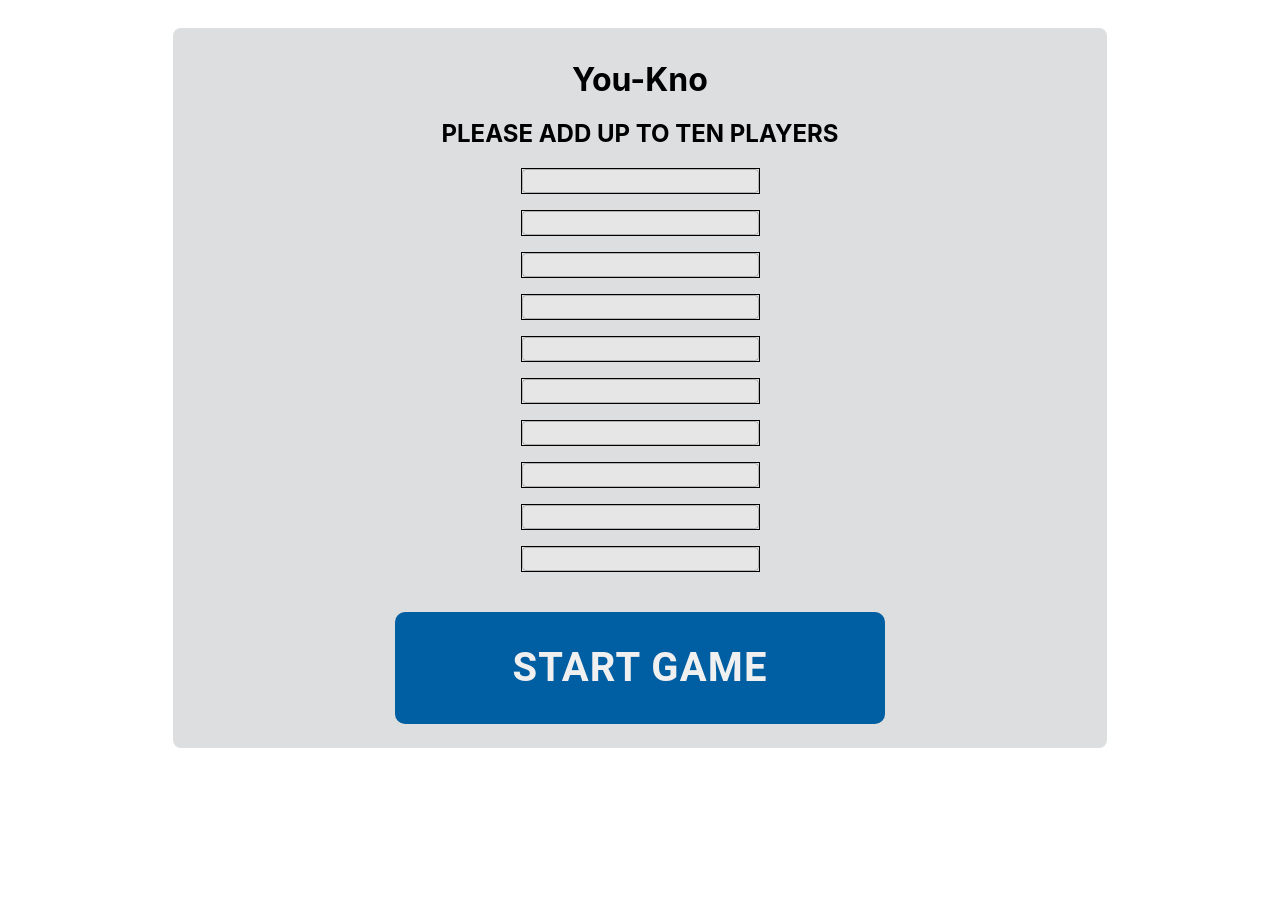
Test: closes error dialog box when ok button is clicked
This screenshot has width=1280, height=900.
Click the button "Start Game" at (640, 668), box [395,612,885,724]
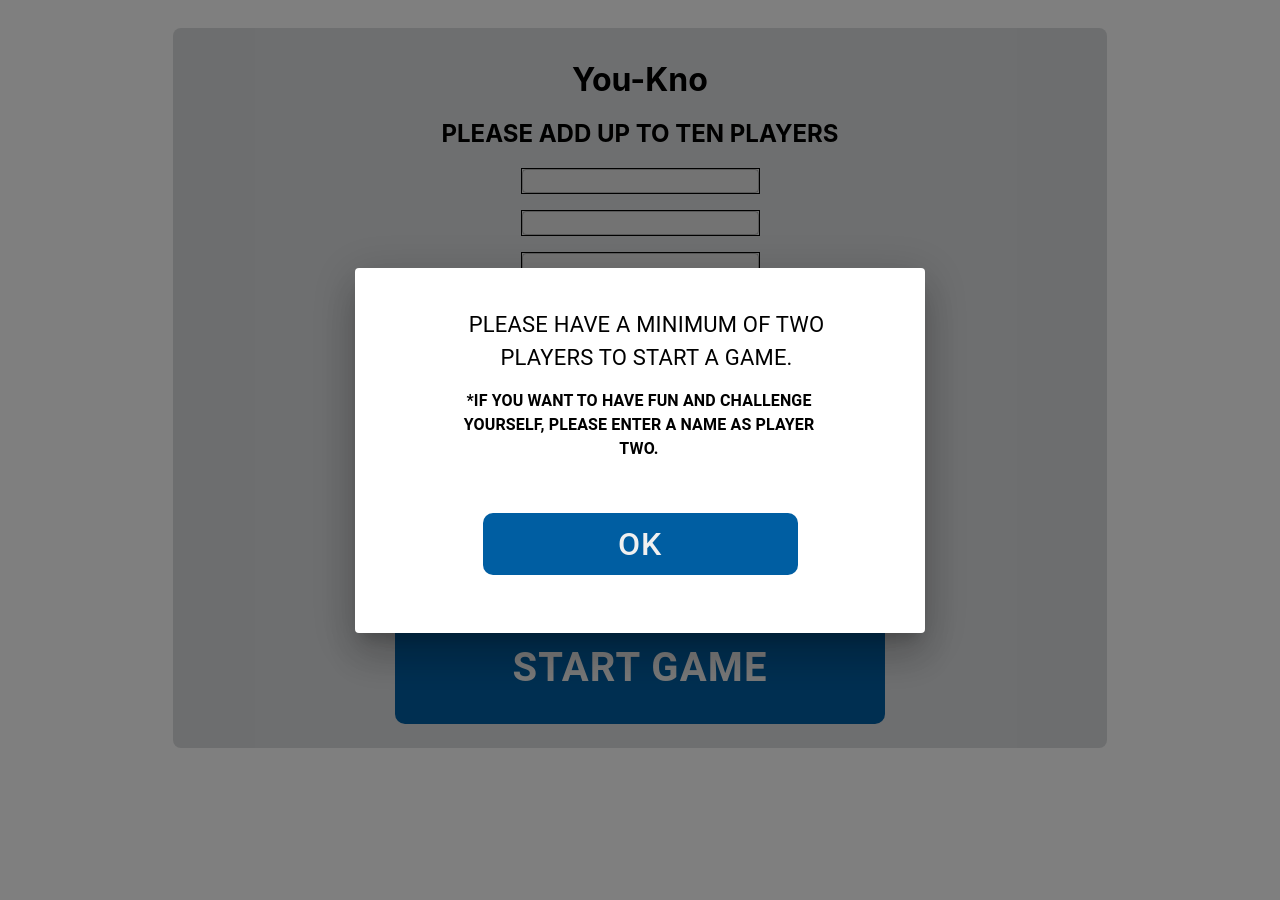
Expected: the text "OK" is shown, [618,524,662,562]
Click the button "OK" at (640, 544), box [482,512,798,574]
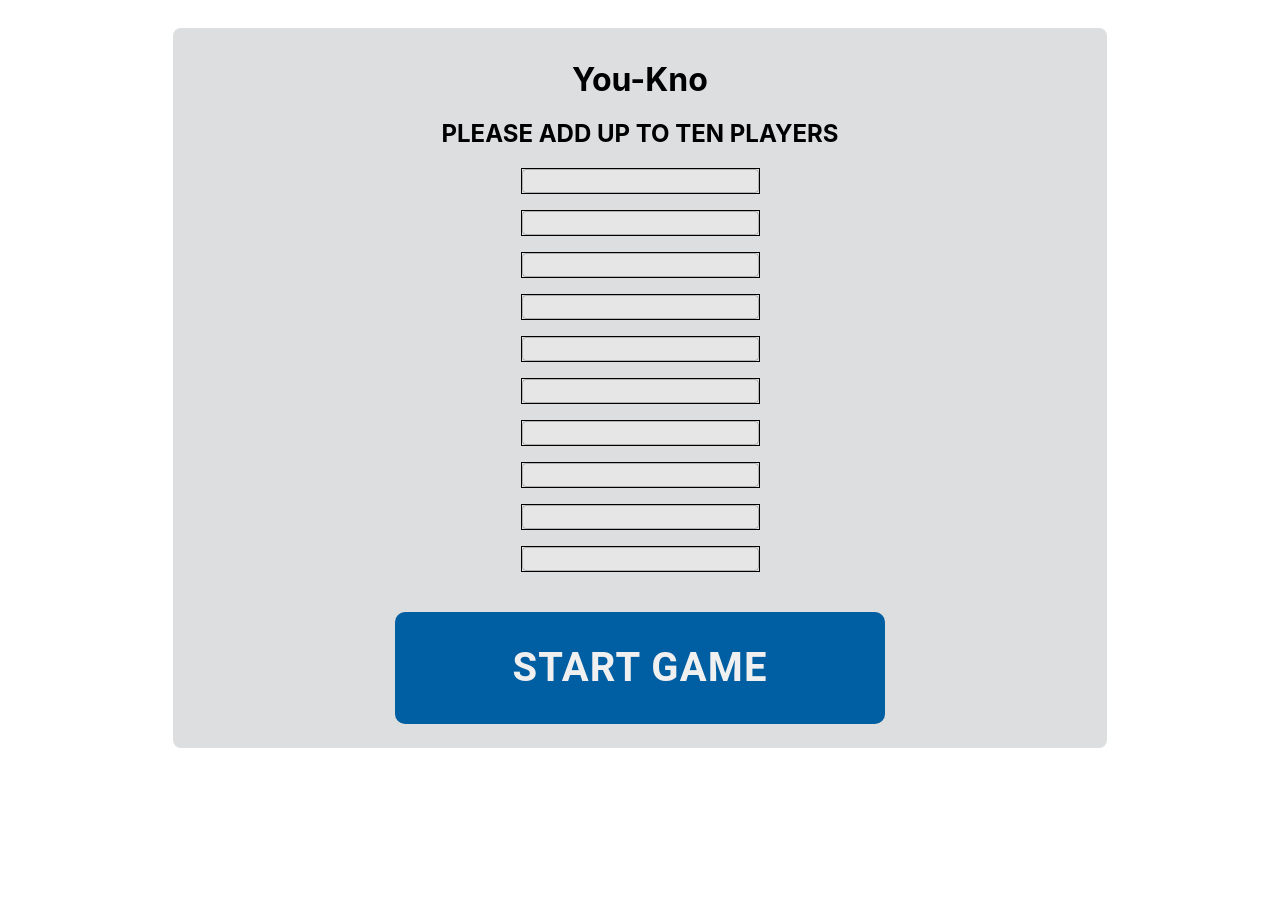
Expected: the button "OK" is gone
